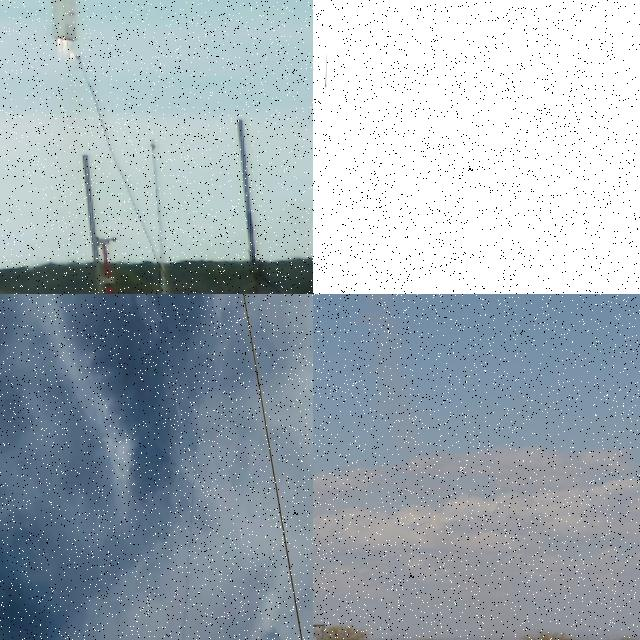Rocket: (49, 0, 78, 42), (325, 54, 327, 88)
